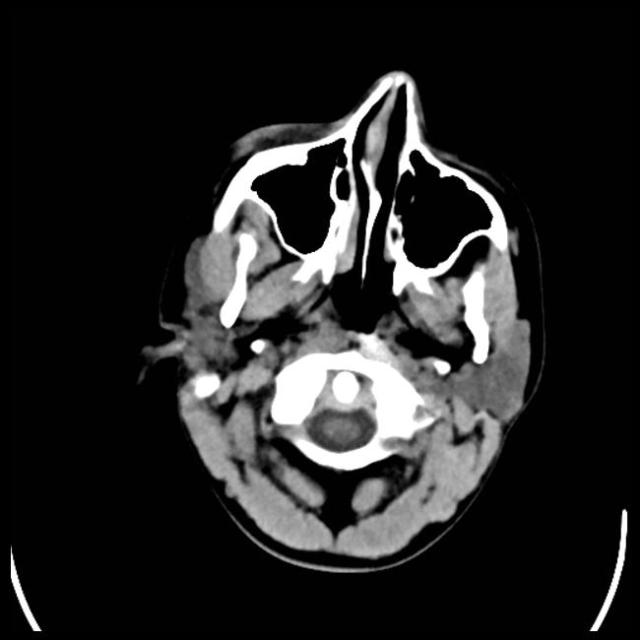lesion: (139, 66, 548, 571)
